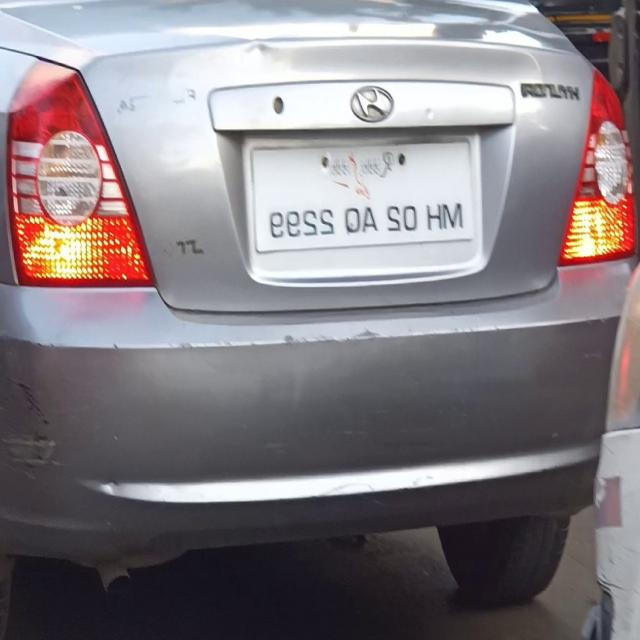license_plate: (248, 131, 477, 258)
